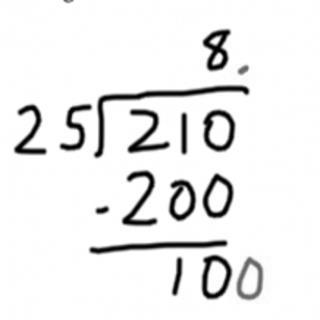.: (233, 59, 250, 81)
0: (201, 106, 240, 154), (202, 166, 235, 220), (201, 253, 233, 303), (166, 175, 197, 226)
1: (176, 108, 195, 161), (168, 253, 187, 298)
2: (120, 104, 171, 156), (8, 102, 52, 160), (120, 166, 159, 228)
5: (58, 99, 91, 155)
8: (193, 20, 233, 74)
